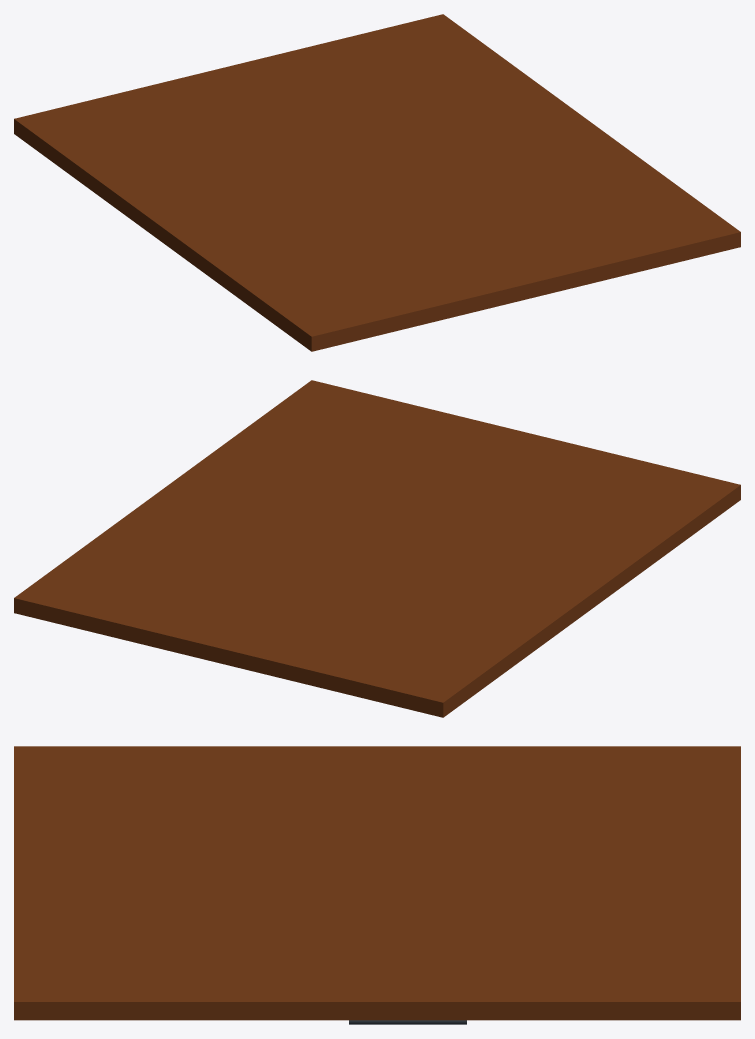
File: slab-cabinet-door-596-mm_3563eae9.glb
3 renders of one model, top to bottom at view 1: azimuth 30°, elevation 25°; view 2: azimuth 150°, elevation 25°; view 3: azimuth 270°, elevation 25°, orthographic. The views are drawn at different scales.
Parts seen in each view (by area): view 1: 000_Slab_door; view 2: 000_Slab_door; view 3: 000_Slab_door, 003_Pull.
Part boxes in pixels (box(x1,y1,x2,y2)): 000_Slab_door: box(14, 14, 740, 351); 000_Slab_door: box(14, 380, 740, 717); 000_Slab_door: box(14, 746, 740, 1020); 003_Pull: box(349, 1020, 466, 1024).
Bounding box in the file's own units: 0.596 × 0.051 × 0.716.
